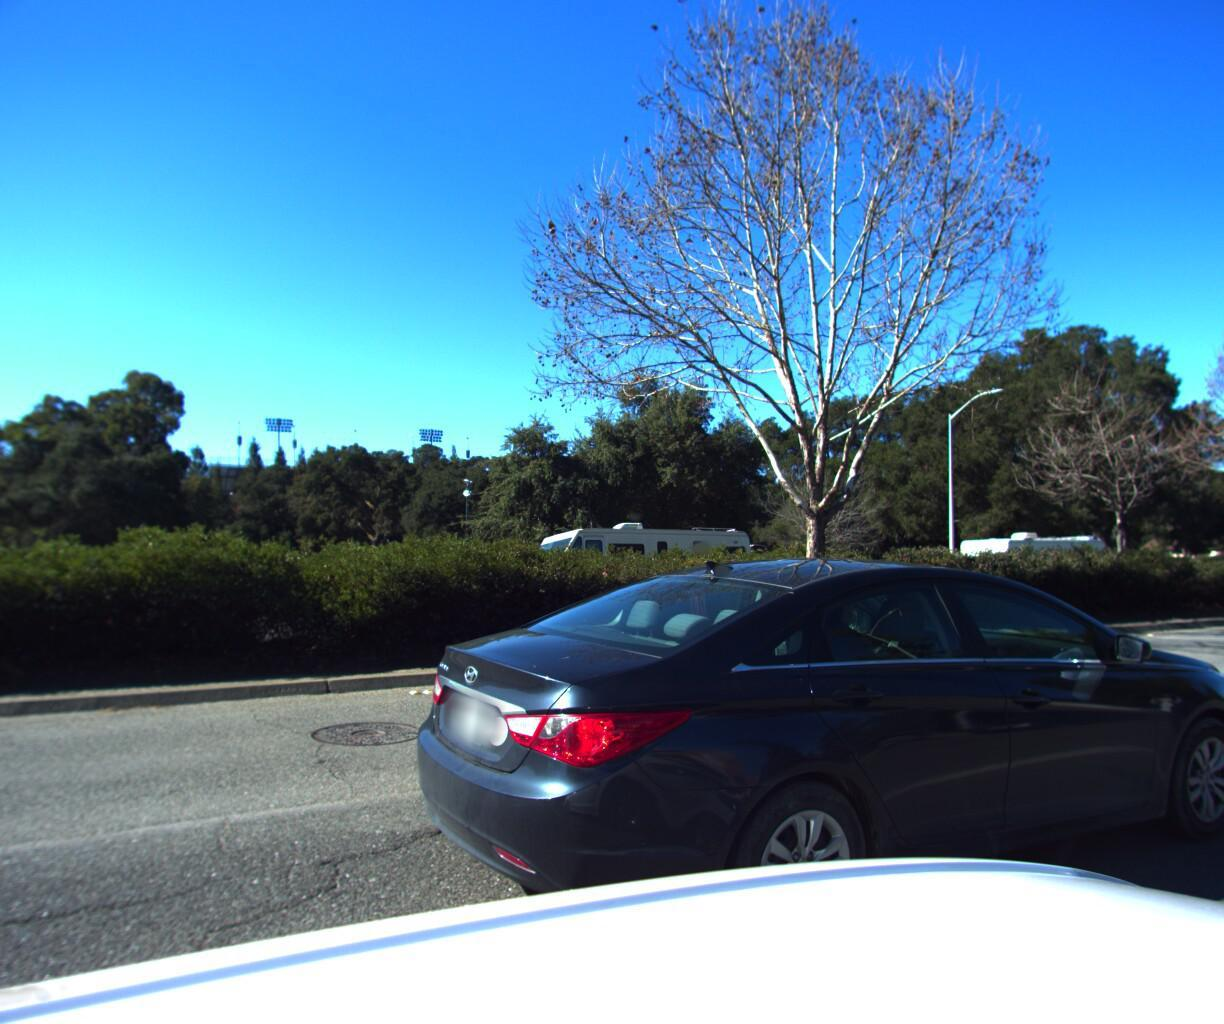car: (367, 553, 1224, 1024)
other_vehicle: (518, 519, 759, 625), (944, 528, 1106, 605), (1221, 536, 1224, 591)
